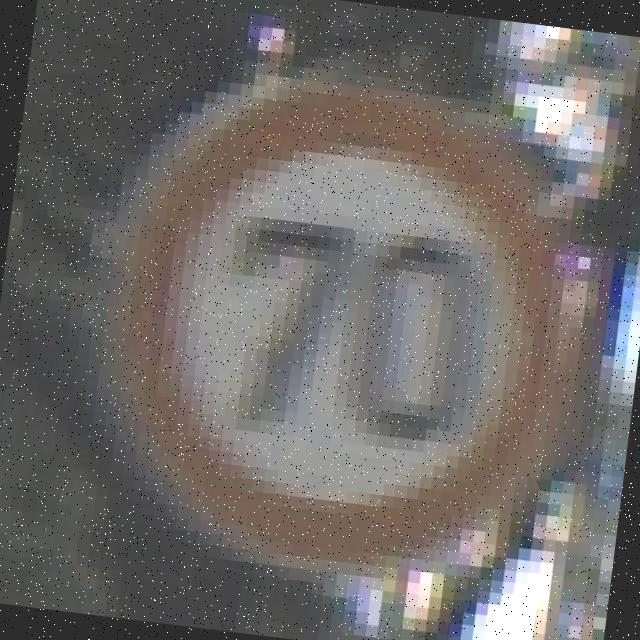Ograniczenie predkosci do 70: (94, 69, 588, 590)
